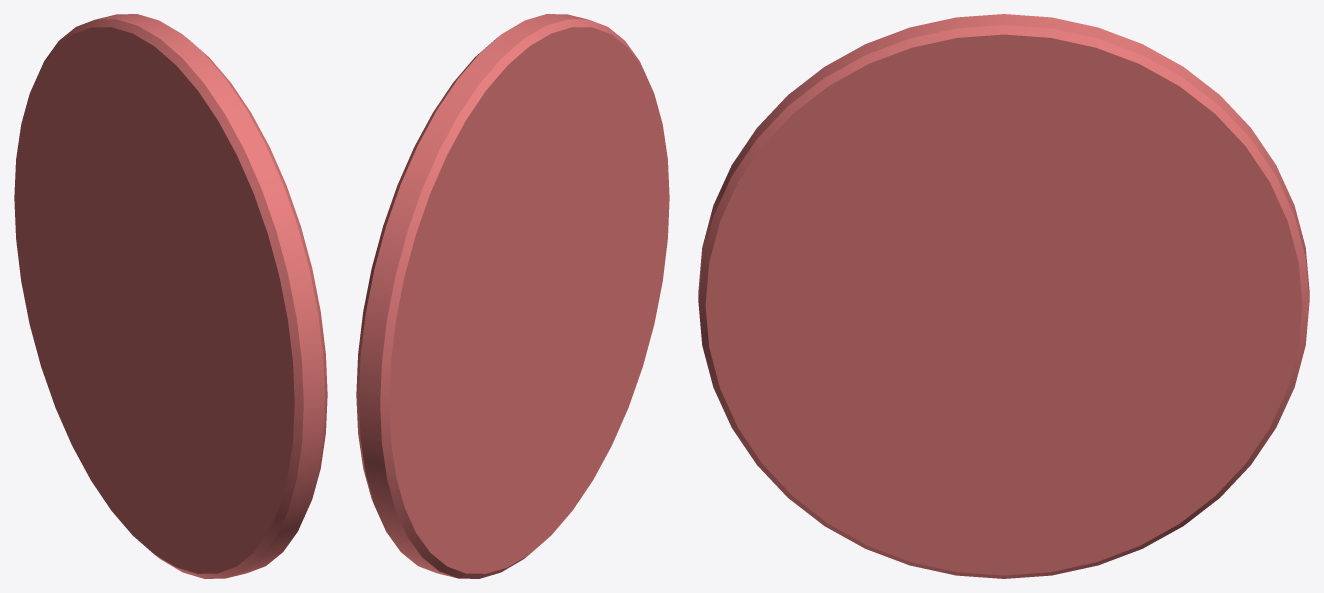
File: p_CircleShape.fbx
3 views of the same model, side by side, from view 1: azimuth 30°, elevation 25°; view 2: azimuth 150°, elevation 25°; view 3: azimuth 270°, elevation 25° (orthographic). The views are drawn at different scales.
Parts seen in each view (by area): view 1: p_CircleShape; view 2: p_CircleShape; view 3: p_CircleShape.
Part boxes in pixels (box(x1,y1,x2,y2)): p_CircleShape: box(14, 14, 327, 578); p_CircleShape: box(356, 14, 669, 578); p_CircleShape: box(698, 14, 1309, 578).
Bounding box in the file's own units: 0.0886 × 1.34 × 1.34.
